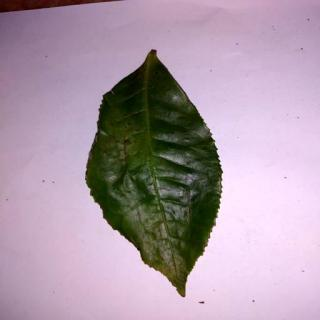Bird Eye Spot: (85, 50, 224, 300)
